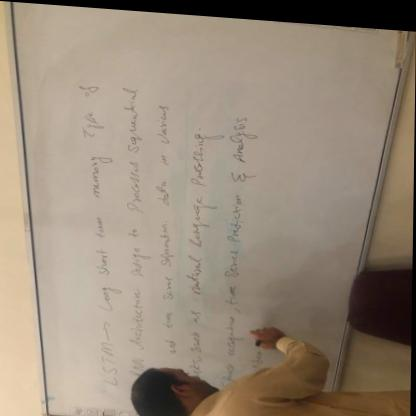Handwritten text: (64, 47, 128, 390), (109, 70, 152, 378), (213, 105, 262, 363), (182, 113, 219, 355), (148, 97, 181, 357)
Lecturer: (129, 321, 402, 416)
Whiteboard: (0, 0, 414, 416)
